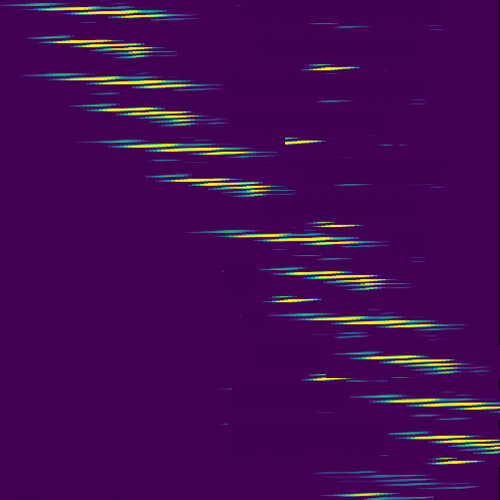semblance: (276, 296, 443, 332), (306, 349, 473, 385), (208, 219, 369, 248), (74, 100, 210, 128), (394, 432, 500, 466), (271, 263, 394, 292), (35, 34, 167, 59), (110, 138, 260, 159), (51, 70, 194, 92), (20, 2, 184, 21), (163, 171, 279, 197), (360, 395, 500, 416)
